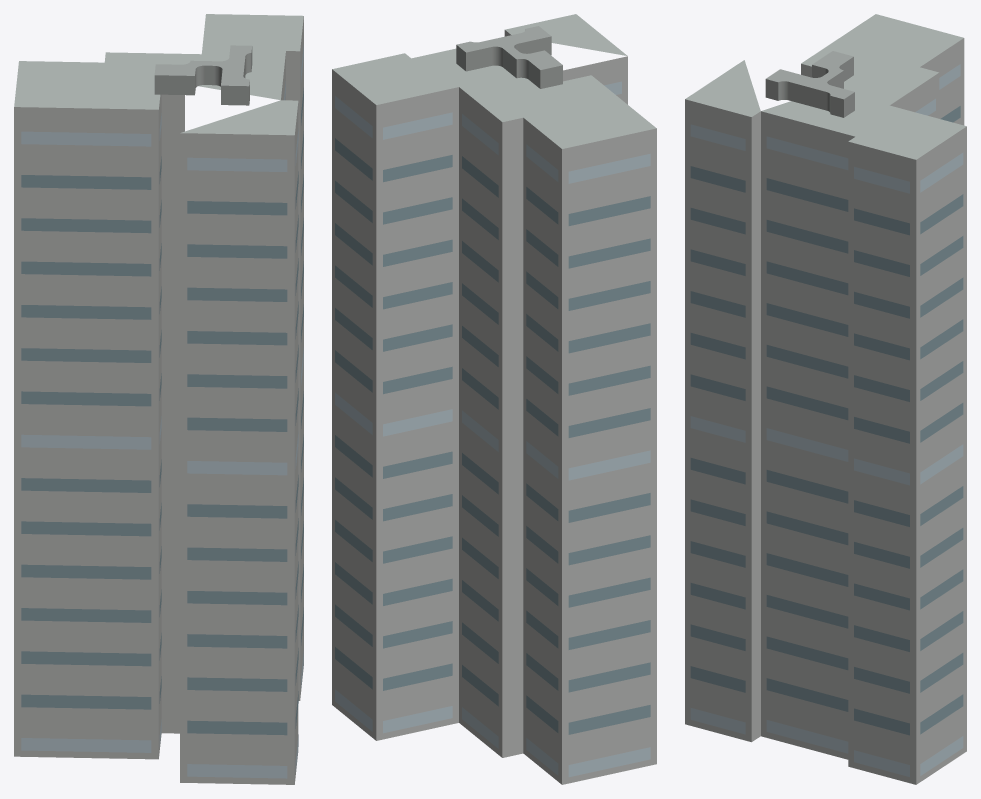
Rendered from fallback-lake-palace-131.glb.
The picture shows the model from 3 angles, left to right: view 1: azimuth 30°, elevation 25°; view 2: azimuth 150°, elevation 25°; view 3: azimuth 270°, elevation 25°; orthographic projection. The views are drawn at different scales.
Visible parts, largest first — view 1: fallback-lake-palace-131; view 2: fallback-lake-palace-131; view 3: fallback-lake-palace-131.
Boxes of the visible parts, <box> form: fallback-lake-palace-131: <box>14,14,303,784</box>; fallback-lake-palace-131: <box>332,14,656,784</box>; fallback-lake-palace-131: <box>685,14,966,784</box>.
Bounding box in the file's own units: 40.35 × 83 × 32.95.
